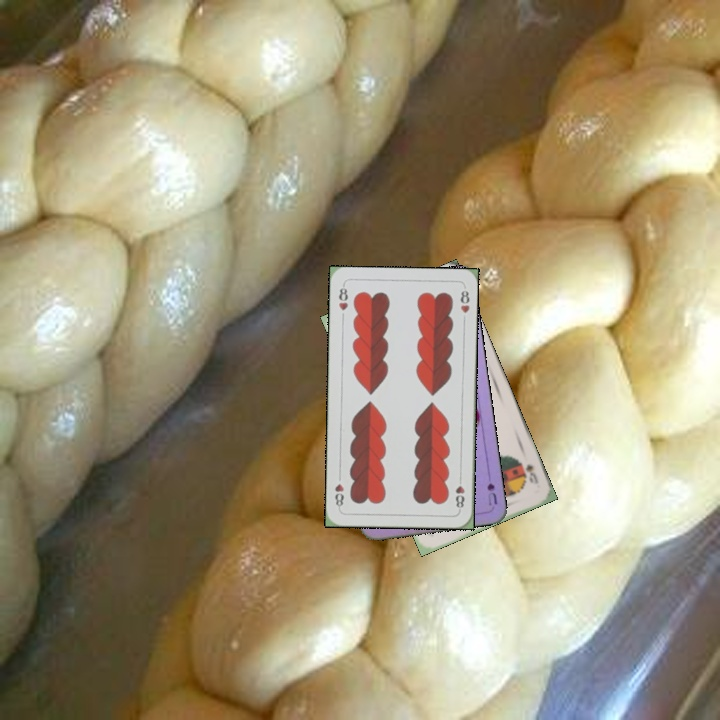H8: (452, 472, 467, 512), (335, 281, 351, 313)
SO: (516, 458, 541, 487)
SU: (483, 467, 500, 508)
